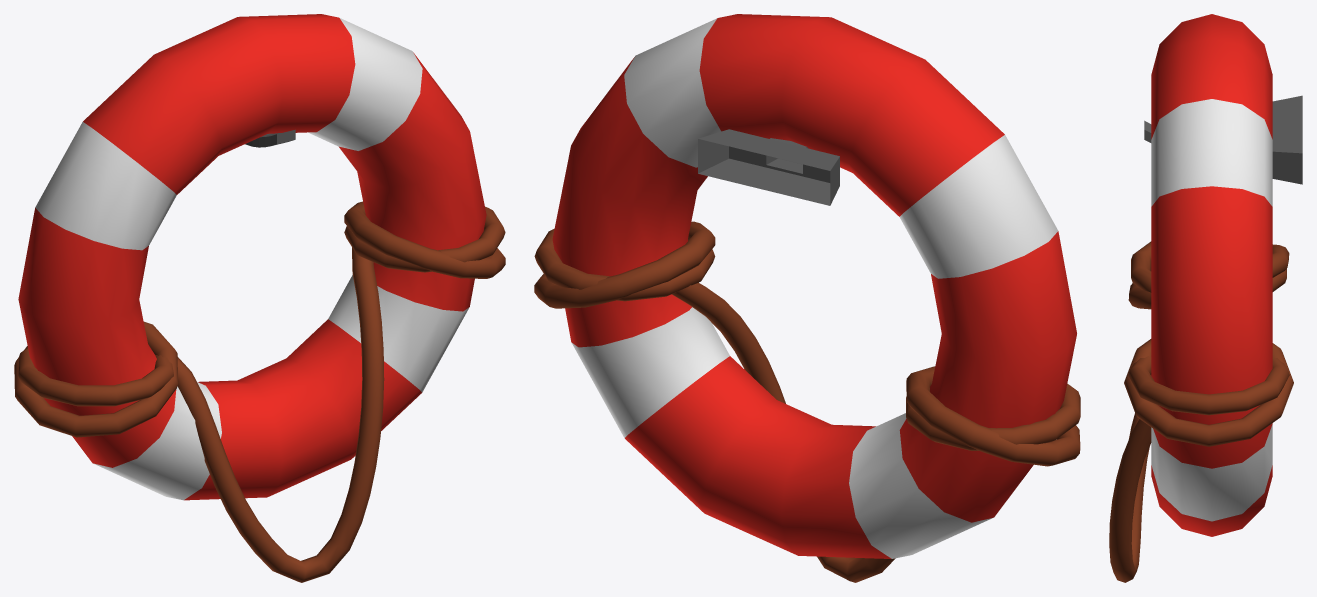
The model's file is Lifepreserver-M01A.fbx.
3 views of the same model, side by side, from view 1: azimuth 30°, elevation 25°; view 2: azimuth 150°, elevation 25°; view 3: azimuth 270°, elevation 25° (orthographic). The views are drawn at different scales.
Parts seen in each view (by area): view 1: Lifepreserver-M01A; view 2: Lifepreserver-M01A; view 3: Lifepreserver-M01A.
Part boxes in pixels (bbox=[...]): Lifepreserver-M01A: bbox=[14, 14, 505, 582]; Lifepreserver-M01A: bbox=[534, 14, 1080, 582]; Lifepreserver-M01A: bbox=[1109, 14, 1302, 582].
Bounding box in the file's own units: 61.76 × 67.13 × 22.07.
